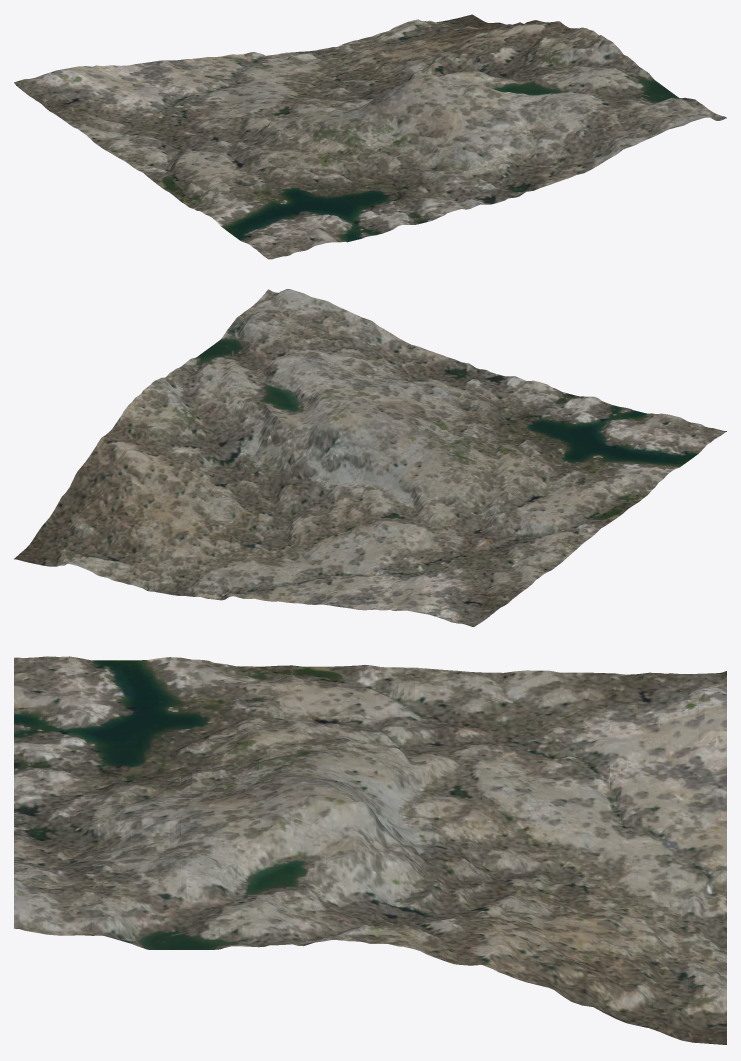
The picture shows the model from 3 angles, top to bottom: view 1: azimuth 30°, elevation 25°; view 2: azimuth 150°, elevation 25°; view 3: azimuth 270°, elevation 25°; orthographic projection. The views are drawn at different scales.
Bounding box in the file's own units: 500 × 93.62 × 481.
1 material, 1 textured.
